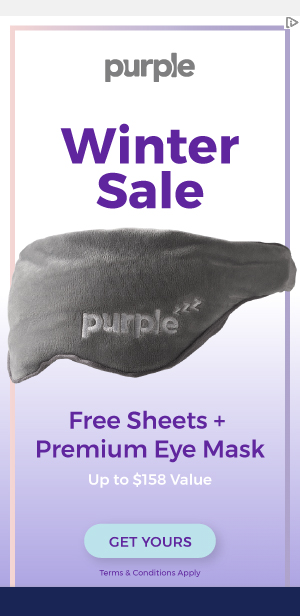fake_button: (69, 516, 222, 563)
